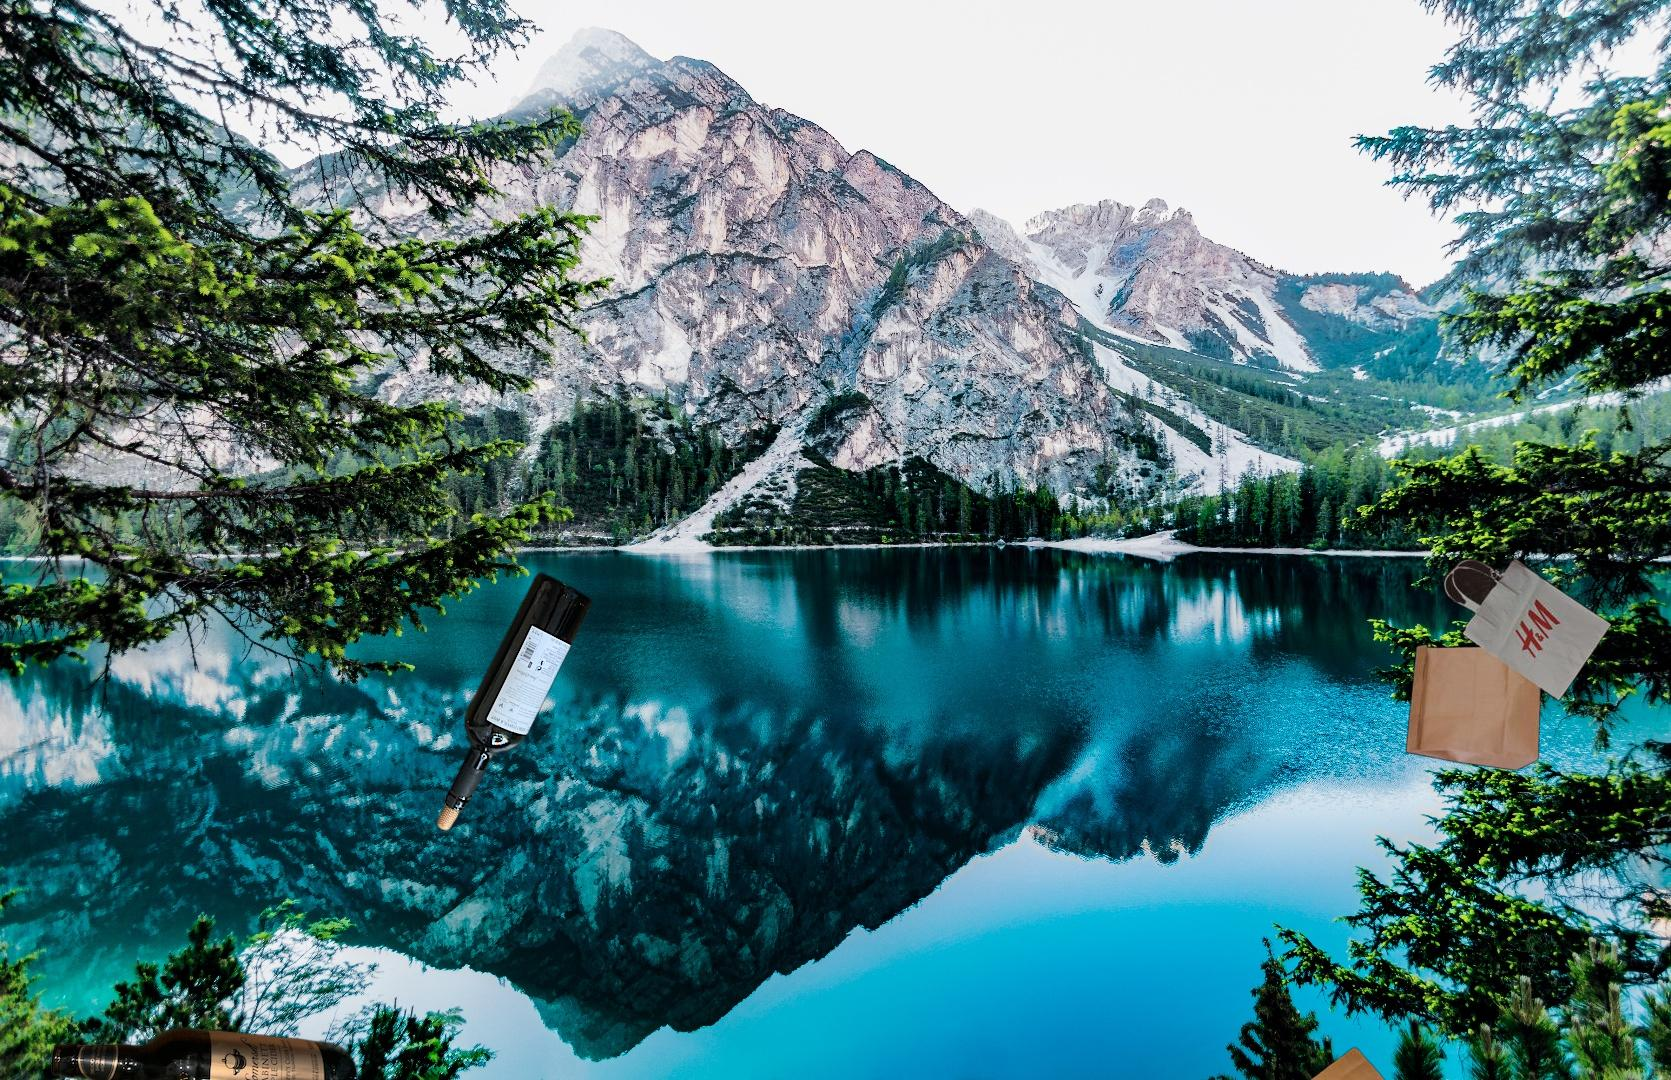glass: (432, 567, 596, 836), (46, 1024, 362, 1080)
paper-bag: (1403, 554, 1614, 773), (1302, 1043, 1418, 1080)
